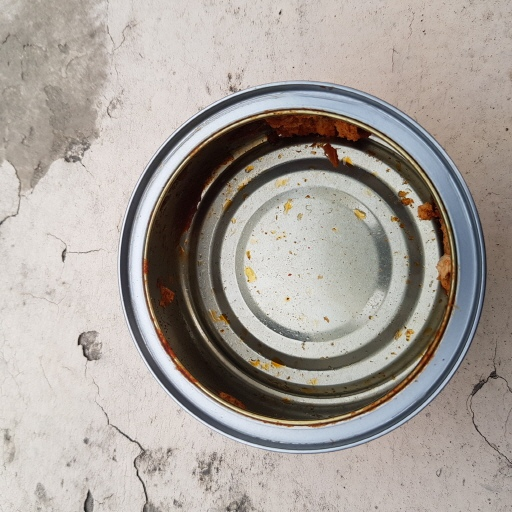Metal_1: (118, 77, 487, 449)
